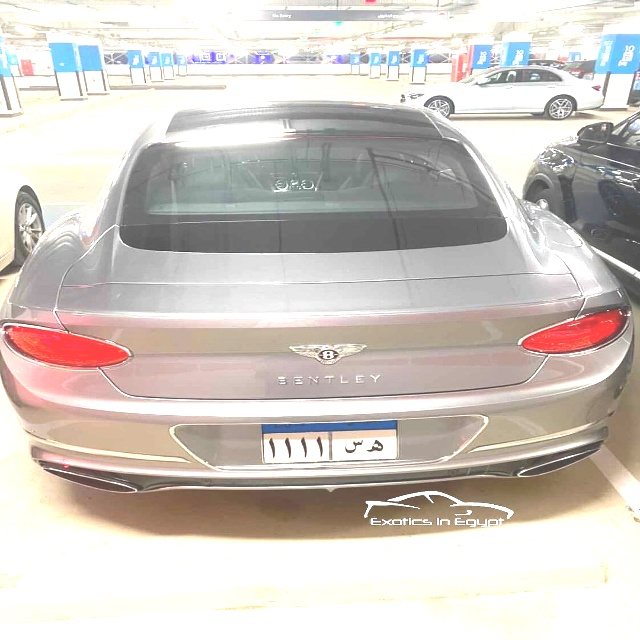License Plate: (260, 417, 400, 466)
